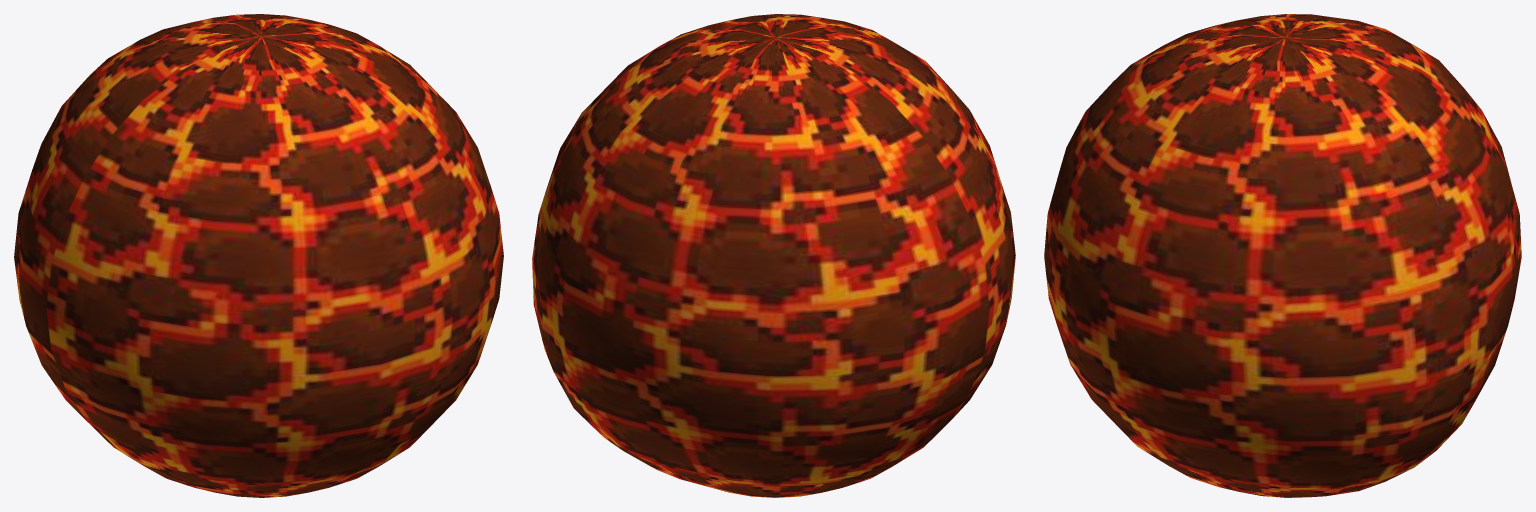
Rendered from lavaball.fbx.
3 renders of one model, left to right at view 1: azimuth 30°, elevation 25°; view 2: azimuth 150°, elevation 25°; view 3: azimuth 270°, elevation 25°, orthographic.
Visible parts, largest first — view 1: Sphere; view 2: Sphere; view 3: Sphere.
Part boxes in pixels (bbox=[...]): Sphere: bbox=[14, 14, 503, 497]; Sphere: bbox=[532, 14, 1015, 497]; Sphere: bbox=[1044, 14, 1521, 497].
Bounding box in the file's own units: 203 × 200 × 198.
